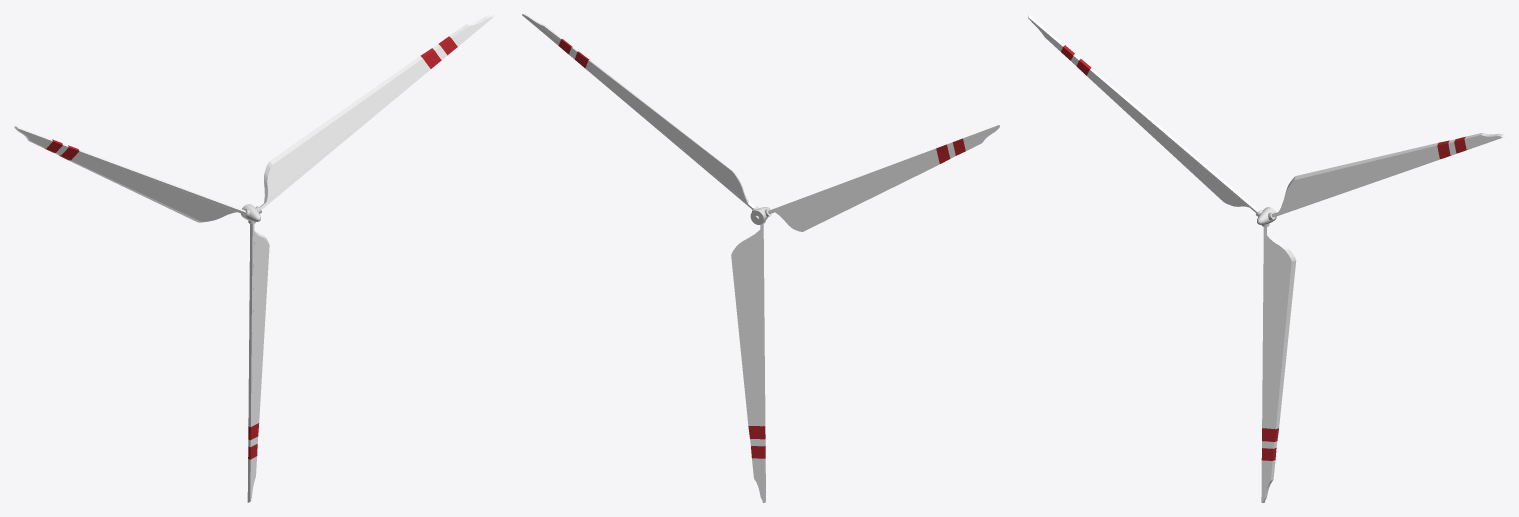
The model's file is wind_turbine_propelers.fbx.
3 views of the same model, side by side, from view 1: azimuth 30°, elevation 25°; view 2: azimuth 150°, elevation 25°; view 3: azimuth 330°, elevation 25° (orthographic).
Visible parts, largest first — view 1: Sphere; view 2: Sphere; view 3: Sphere.
Part boxes in pixels (x1,y1,x2,y2): Sphere: [14, 14, 493, 502]; Sphere: [522, 14, 999, 502]; Sphere: [1028, 14, 1504, 502].
Size of the model in its own units: 7214 by 6256 by 364.
